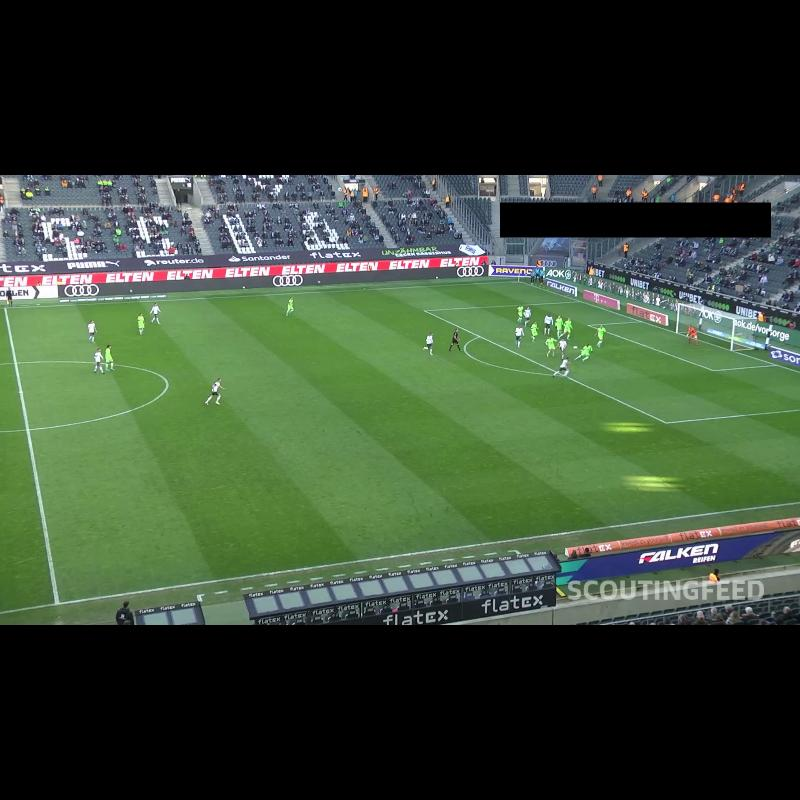cross_recipient_zone: (424, 301, 800, 423)
crossing_player_zone: (528, 410, 800, 520), (296, 282, 579, 316)
pitch: (0, 282, 800, 612)
